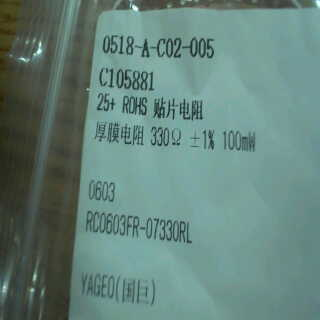330R: (148, 122, 185, 151)
